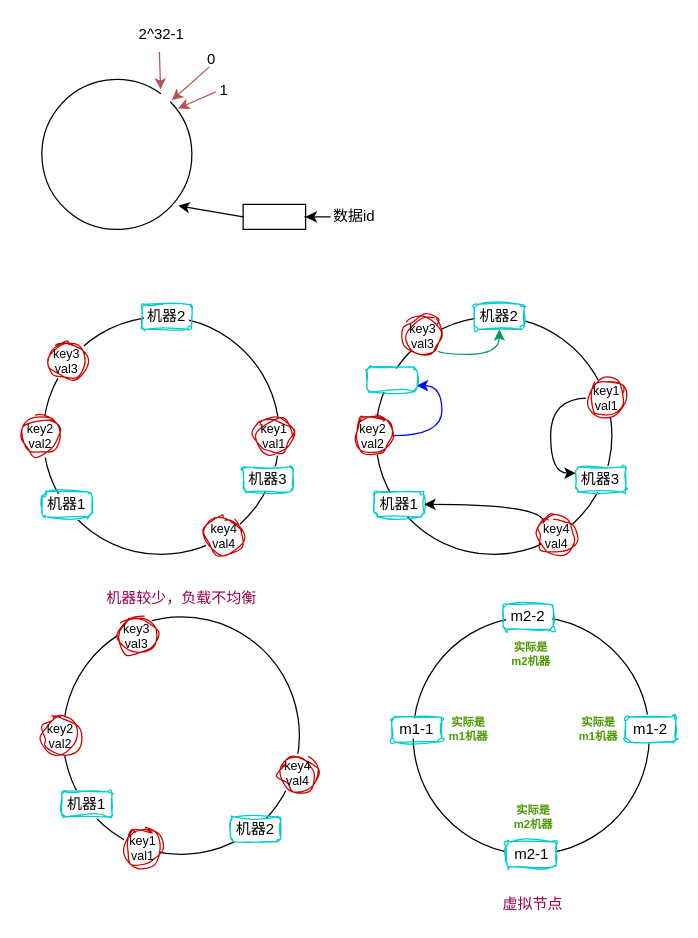
Some shapes in this 698 by 938 pixel diagram are drawn without their labels. The box of each missing label's shape, as (x1, y1, x2, y2) in pixels:
hash: (242, 203, 306, 229)
机器4: (366, 366, 417, 392)
